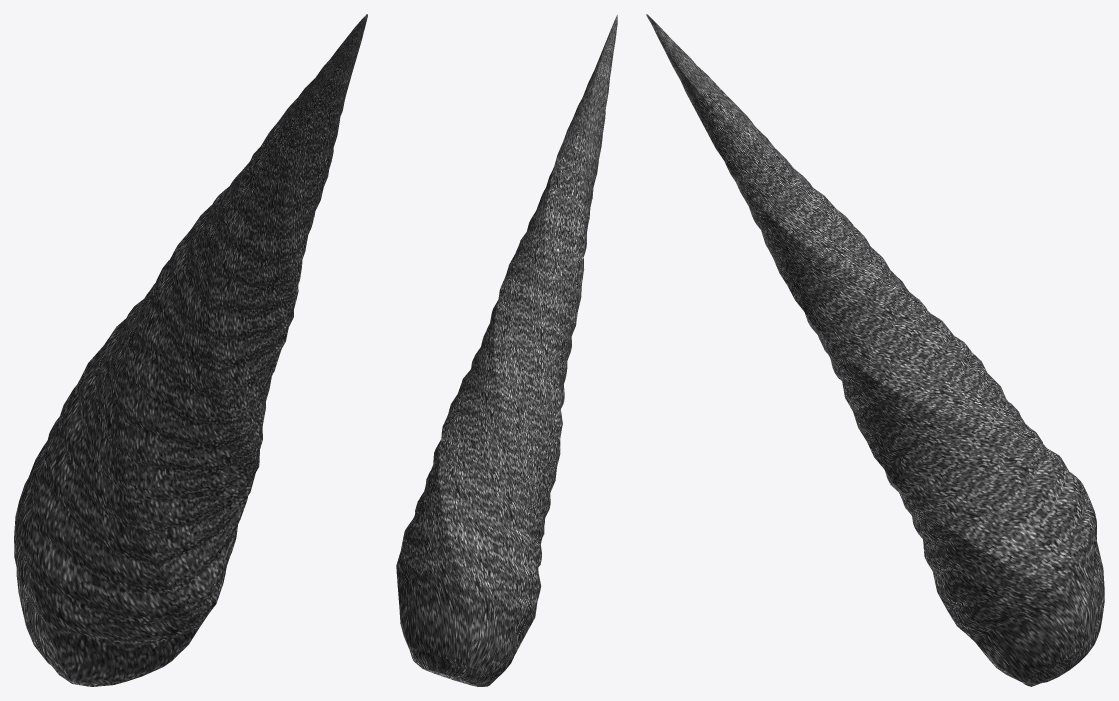
Rendered from unicornhorn-lite.glb.
The picture shows the model from 3 angles, left to right: view 1: azimuth 30°, elevation 25°; view 2: azimuth 150°, elevation 25°; view 3: azimuth 270°, elevation 25°; orthographic projection. The views are drawn at different scales.
Parts seen in each view (by area): view 1: unicornhorn; view 2: unicornhorn; view 3: unicornhorn.
Boxes of the visible parts, left/top/right/bottom form: unicornhorn: left=14, top=14, right=367, bottom=686; unicornhorn: left=396, top=14, right=617, bottom=686; unicornhorn: left=646, top=14, right=1104, bottom=686.
Size of the model in its own units: 0.0493 by 0.195 by 0.1217.
Materials: 1 (1 with a texture image).
